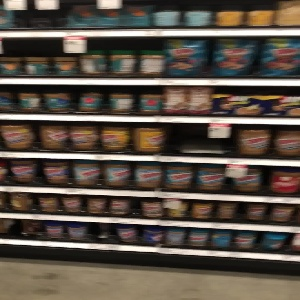void: (165, 120, 234, 158), (13, 1, 64, 31), (2, 217, 45, 243), (88, 220, 120, 252)
